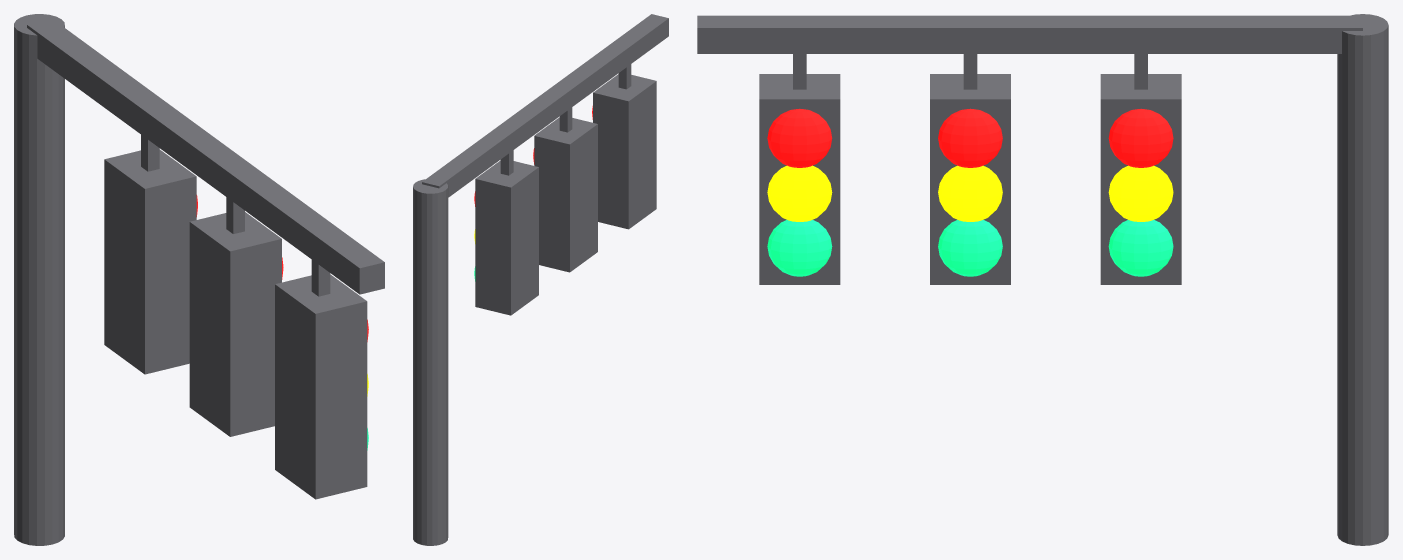
The model's file is traffic_light_t.fbx.
The picture shows the model from 3 angles, left to right: view 1: azimuth 30°, elevation 25°; view 2: azimuth 150°, elevation 25°; view 3: azimuth 270°, elevation 25°; orthographic projection. The views are drawn at different scales.
Parts seen in each view (by area): view 1: Semaforo_cuerpo; view 2: Semaforo_cuerpo; view 3: Semaforo_cuerpo, lamp_red.002, lamp_red.001, lamp_red, lamp_green.001, lamp_green.002, lamp_green, lamp_yellow.002, lamp_yellow, lamp_yellow.001.
Boxes of the visible parts, left/top/right/bottom form: Semaforo_cuerpo: left=14, top=14, right=384, bottom=545; Semaforo_cuerpo: left=413, top=14, right=668, bottom=545; Semaforo_cuerpo: left=697, top=14, right=1388, bottom=545; lamp_red.002: left=767, top=108, right=832, bottom=167; lamp_red.001: left=938, top=108, right=1002, bottom=167; lamp_red: left=1108, top=108, right=1173, bottom=167; lamp_green.001: left=938, top=220, right=1002, bottom=276; lamp_green.002: left=767, top=220, right=832, bottom=276; lamp_green: left=1108, top=220, right=1173, bottom=276; lamp_yellow.002: left=767, top=165, right=832, bottom=221; lamp_yellow: left=1108, top=165, right=1173, bottom=221; lamp_yellow.001: left=938, top=165, right=1002, bottom=221.
Bounding box in the file's own units: 89.52 × 664 × 810.
